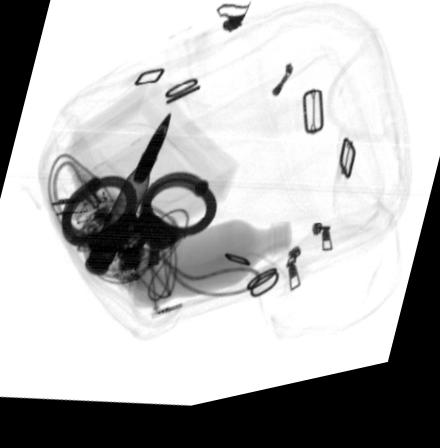Bullet: (84, 119, 171, 278)
HandCuffs: (60, 179, 218, 276)
